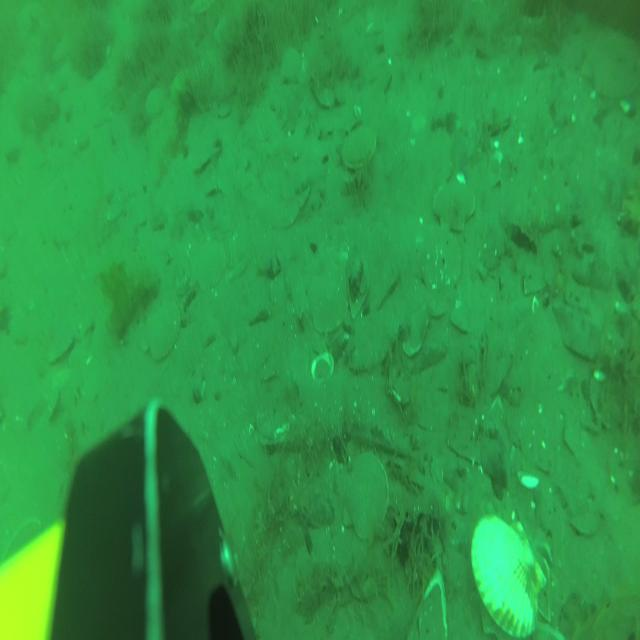scallop: (472, 516, 550, 638), (344, 448, 390, 546), (585, 29, 640, 104), (310, 262, 348, 334), (435, 182, 479, 241), (420, 227, 461, 284), (146, 300, 180, 365), (368, 262, 398, 318), (341, 125, 377, 170), (194, 139, 223, 179), (46, 334, 76, 368), (570, 505, 600, 538), (279, 47, 301, 86), (144, 83, 168, 118)
